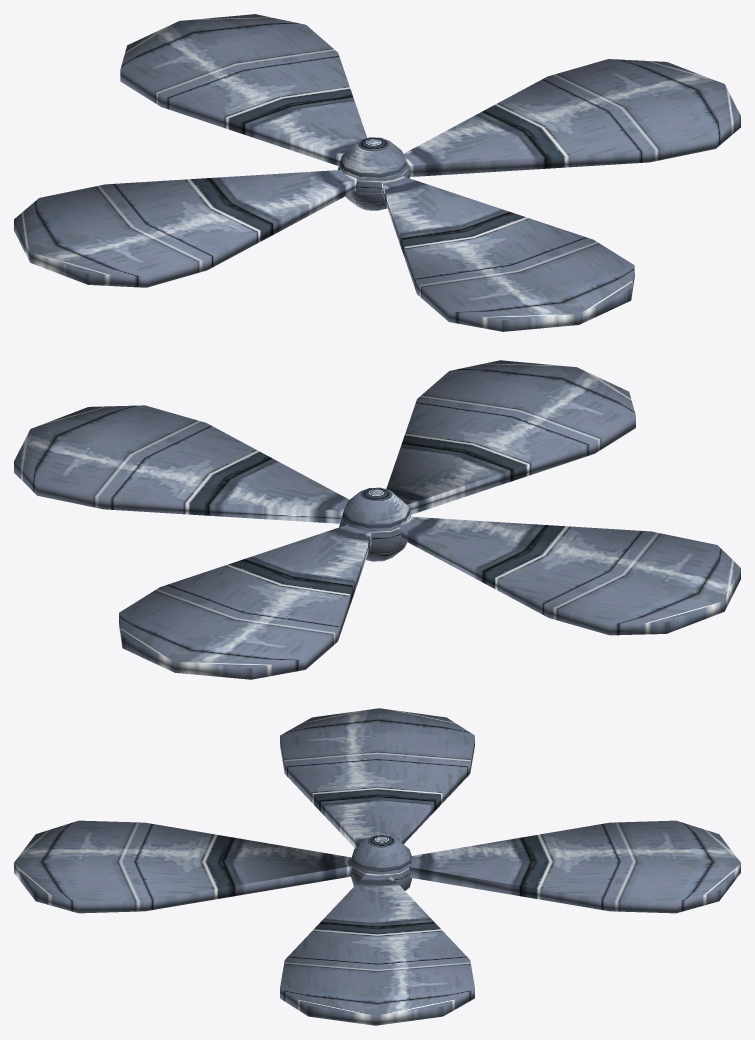
The model's file is spongeball_track_fan.obj.
3 renders of one model, top to bottom at view 1: azimuth 30°, elevation 25°; view 2: azimuth 150°, elevation 25°; view 3: azimuth 270°, elevation 25°, orthographic. The views are drawn at different scales.
Parts seen in each view (by area): view 1: spongeball_track_fan; view 2: spongeball_track_fan; view 3: spongeball_track_fan.
Boxes of the visible parts, x1,y1,x2,y2 form: spongeball_track_fan: (14,14,740,331); spongeball_track_fan: (14,360,740,679); spongeball_track_fan: (14,708,740,1025).
Size of the model in its own units: 12.77 by 1.18 by 12.77.
Materials: 1 (1 with a texture image).
